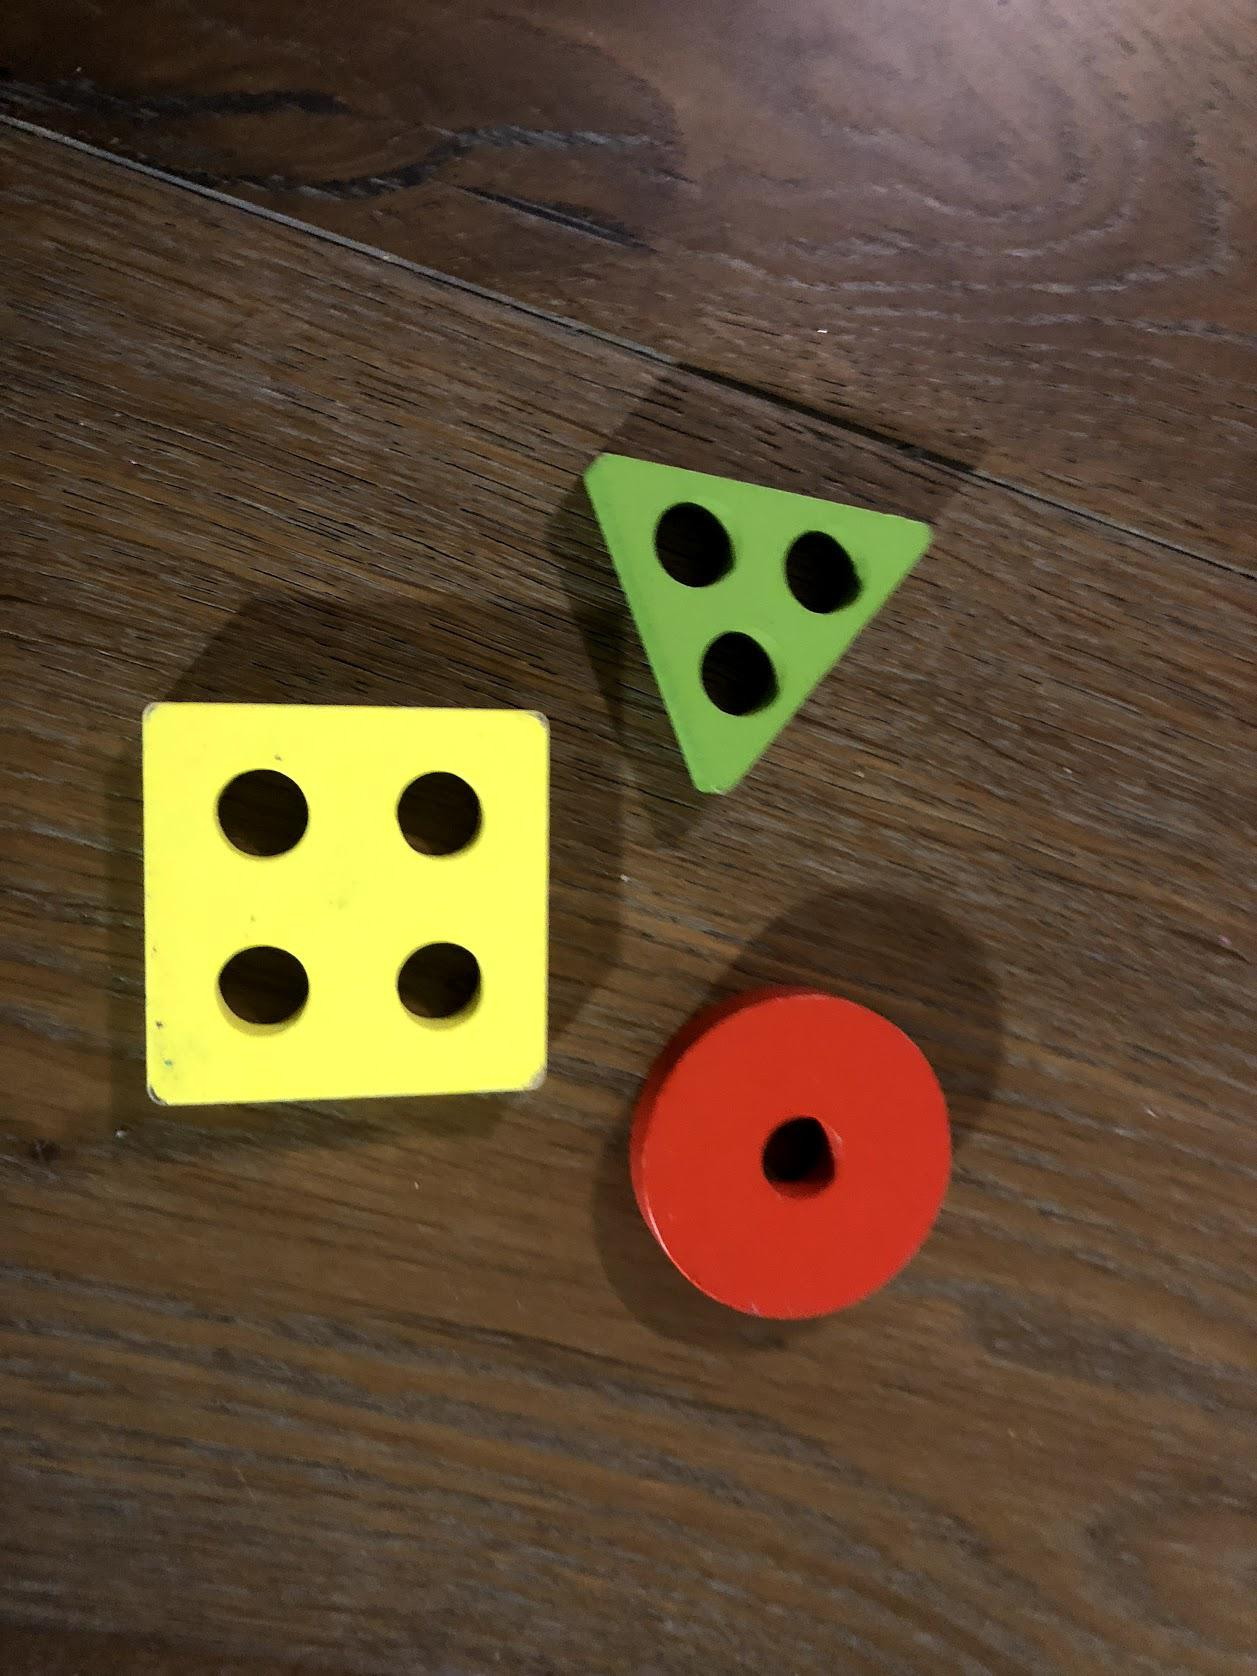Circle: (631, 986, 949, 1328)
Square: (137, 699, 544, 1107)
Triangle: (584, 449, 936, 794)
